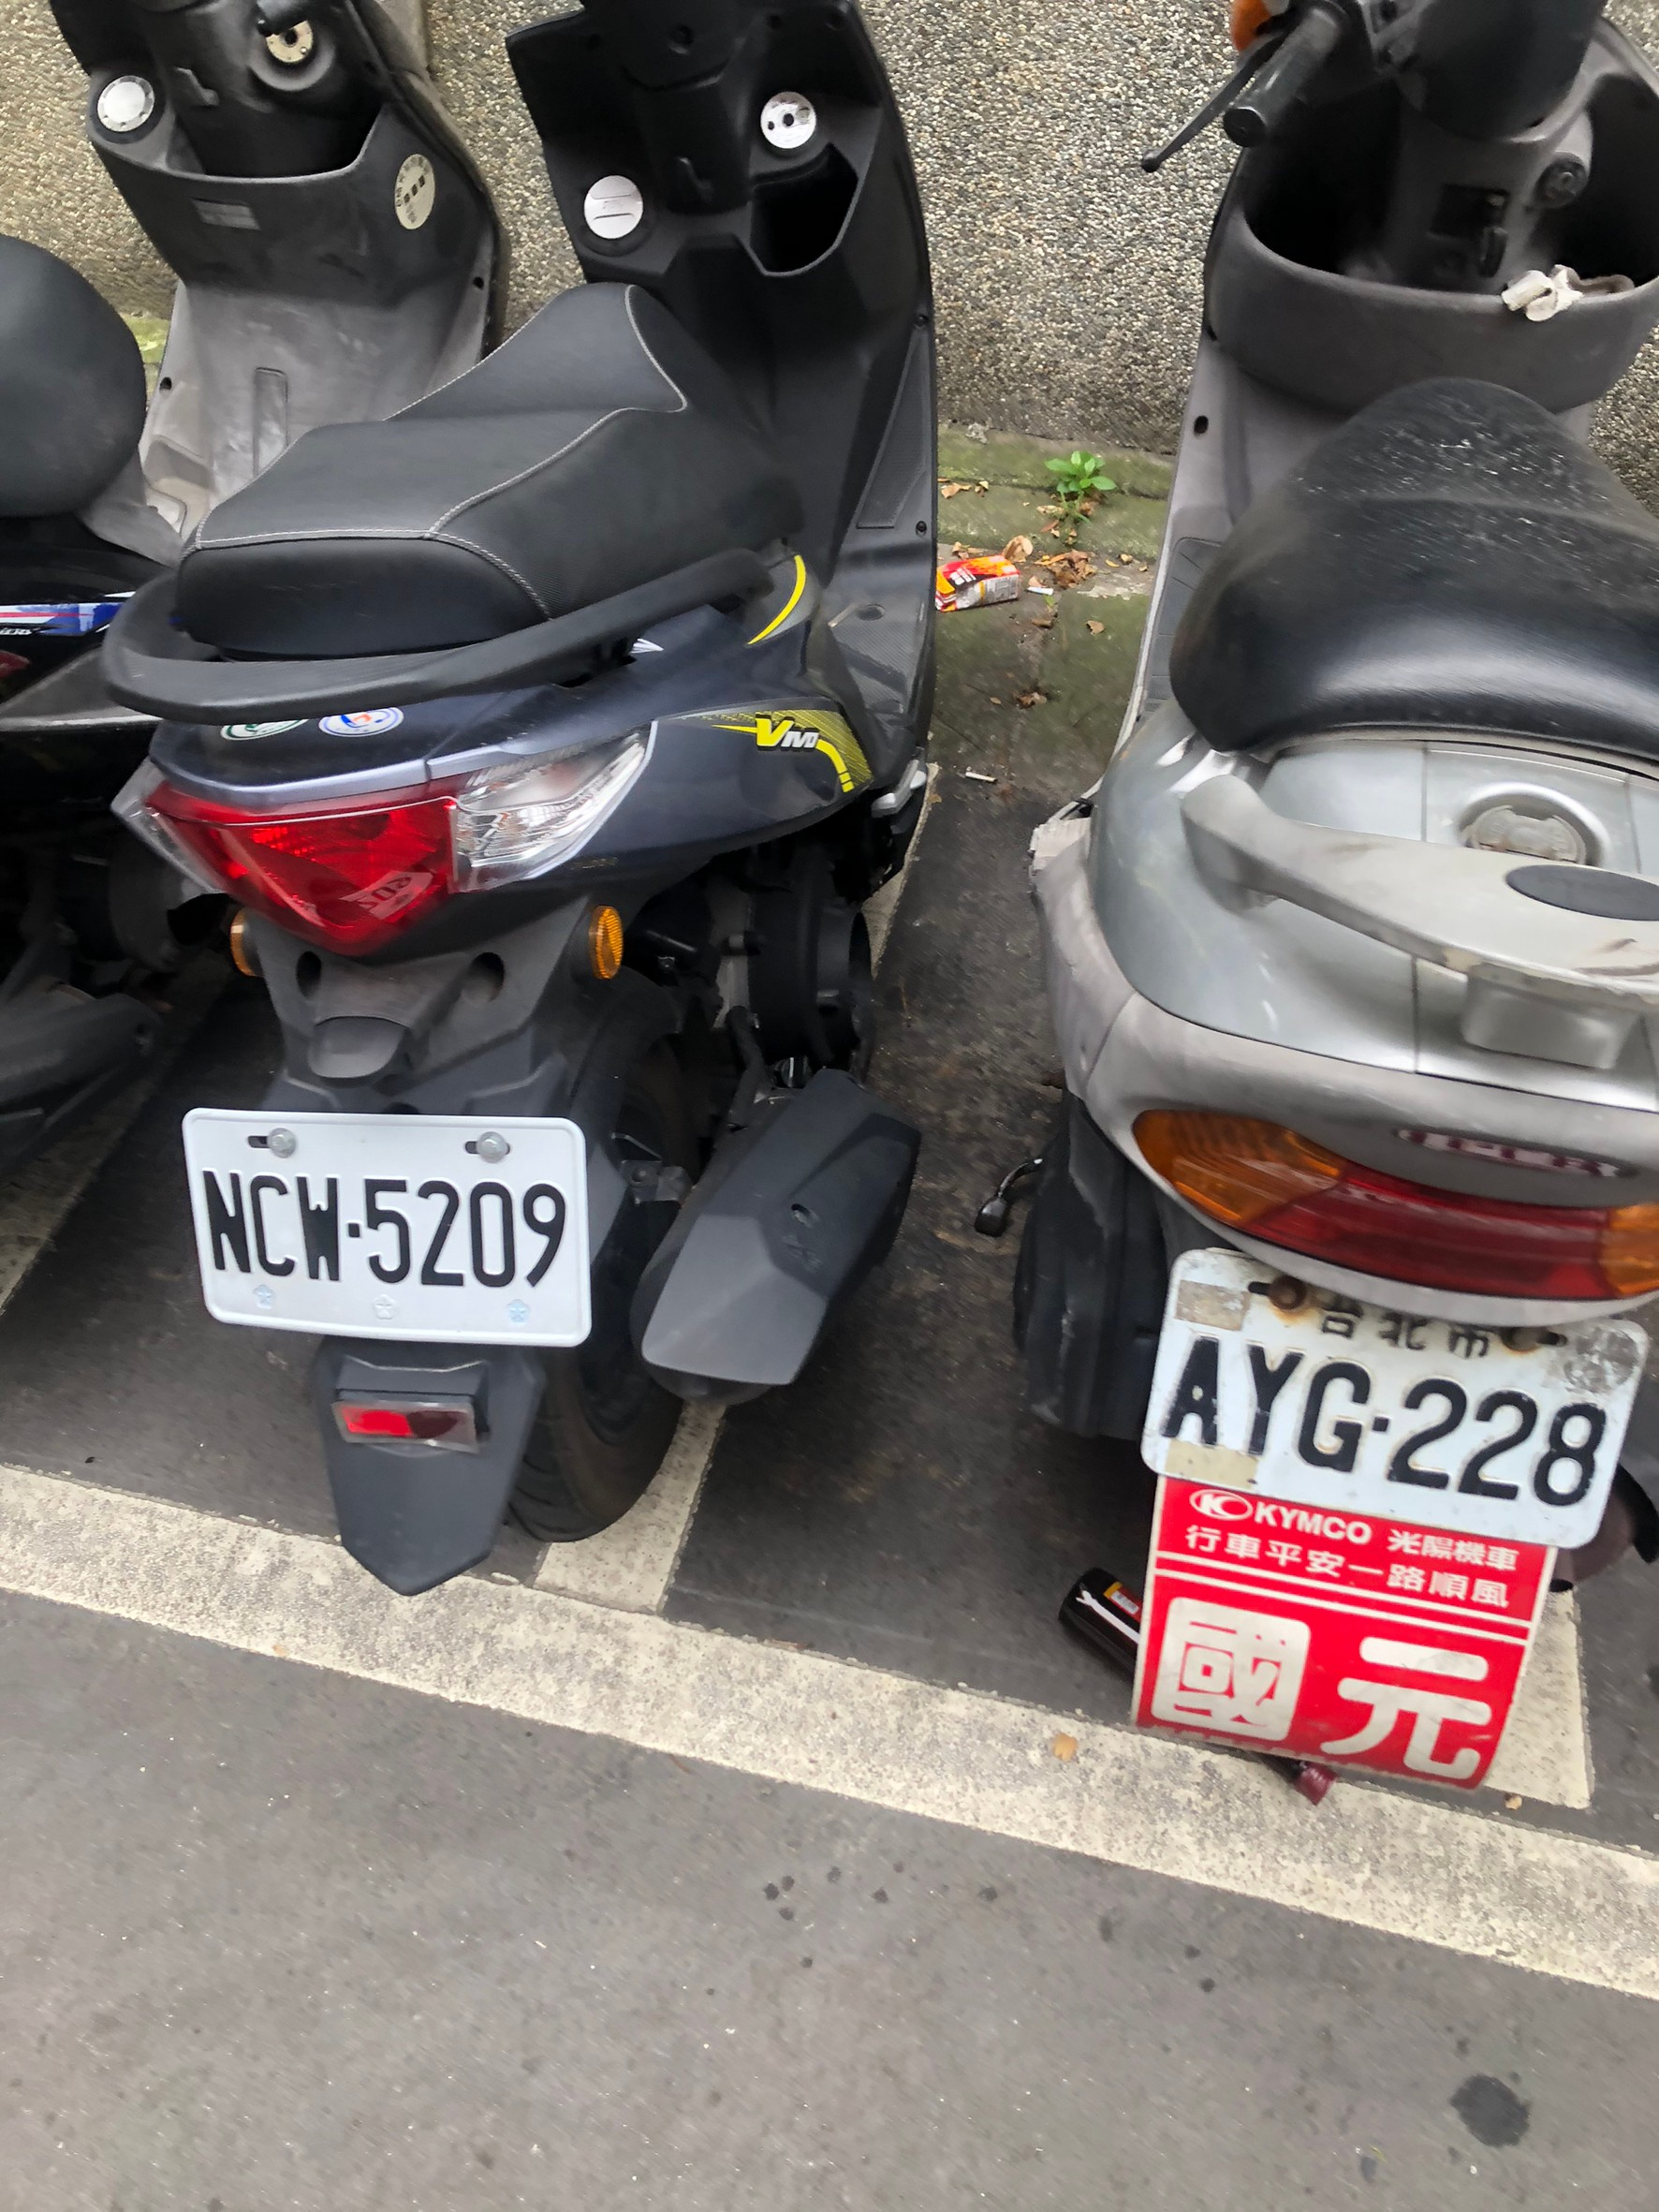LP: (1148, 1278, 1633, 1525), (176, 1103, 594, 1353)
